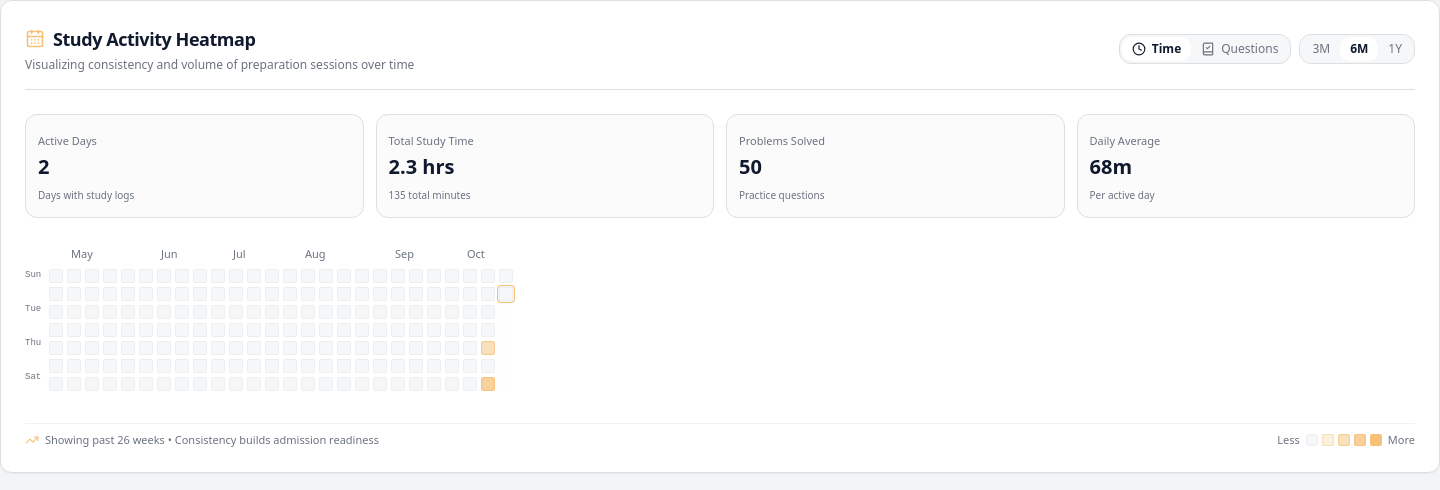
Test: ActivityHeatmap › displays tooltip when hovering over an active cell
Hover over the element with test id "heatmap-cell-2026-10-10": (488, 384) [481,376,495,390]
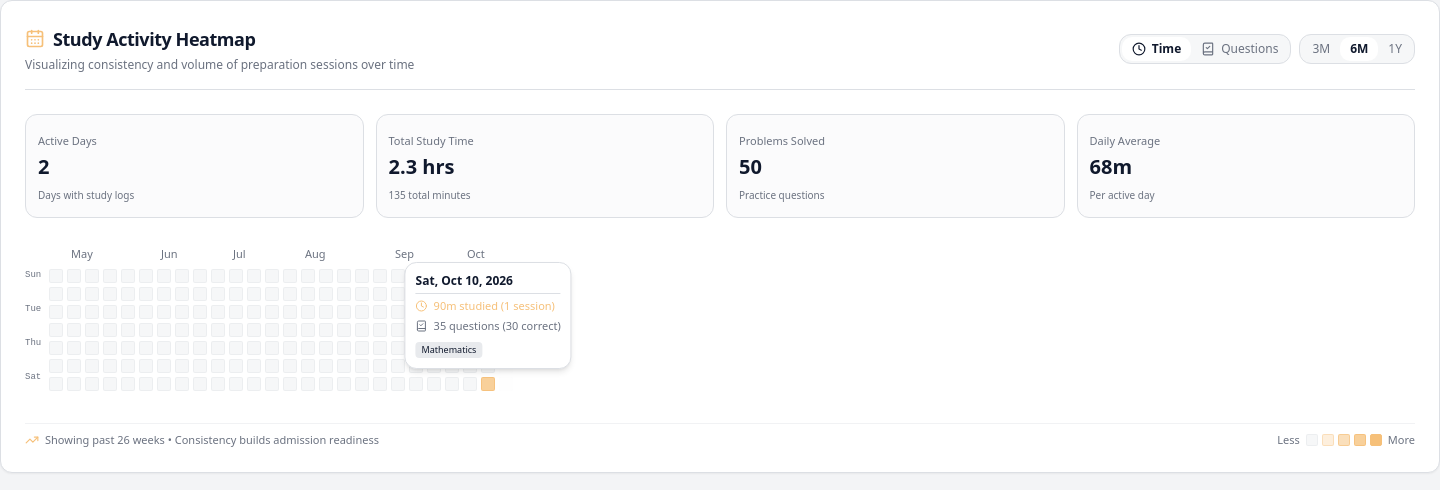
Expected: the element with test id "heatmap-tooltip" is shown, [405,262,572,368]
Expected: the text "90m studied (1 session)" is shown, [434,298,555,314]
Expected: the text "35 questions (30 correct)" is shown, [434,318,561,334]
Move the pointer off the element with test id "heatmap-cell-2026-10-10", box [481,376,495,390]
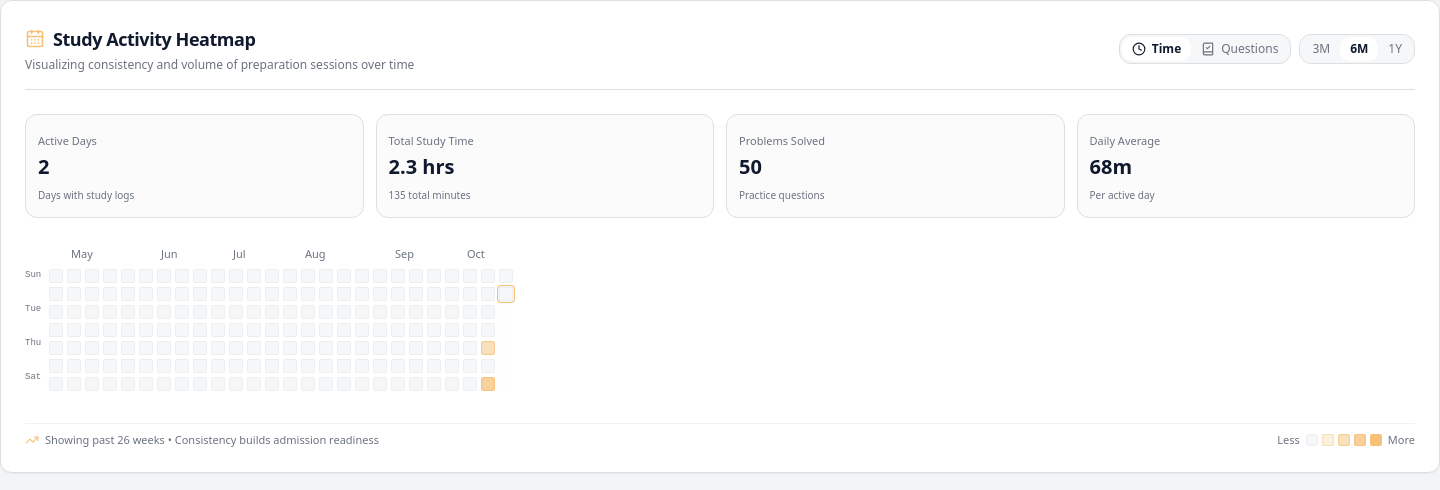
Expected: the element with test id "heatmap-tooltip" is gone
